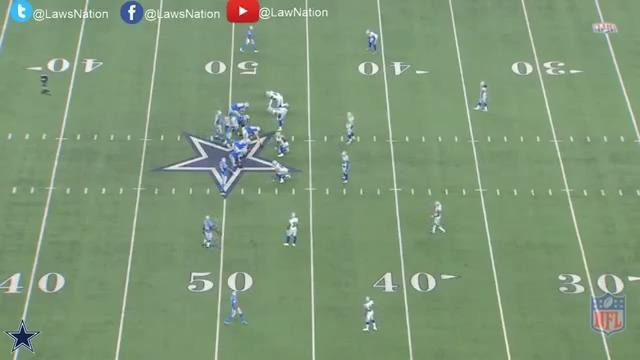defense: (280, 211, 301, 251), (360, 296, 379, 335), (429, 200, 449, 237), (474, 80, 493, 115), (338, 152, 354, 193), (342, 111, 359, 148), (271, 103, 290, 133), (270, 159, 291, 185), (273, 132, 291, 159), (267, 87, 288, 109), (364, 28, 378, 56)
oline: (228, 146, 250, 169), (229, 114, 251, 136), (242, 125, 264, 143), (230, 140, 253, 156), (229, 101, 251, 116)
qb: (221, 115, 235, 148)
skill: (223, 289, 251, 328), (201, 215, 221, 253), (239, 26, 260, 56), (217, 156, 231, 198), (212, 109, 224, 140)
